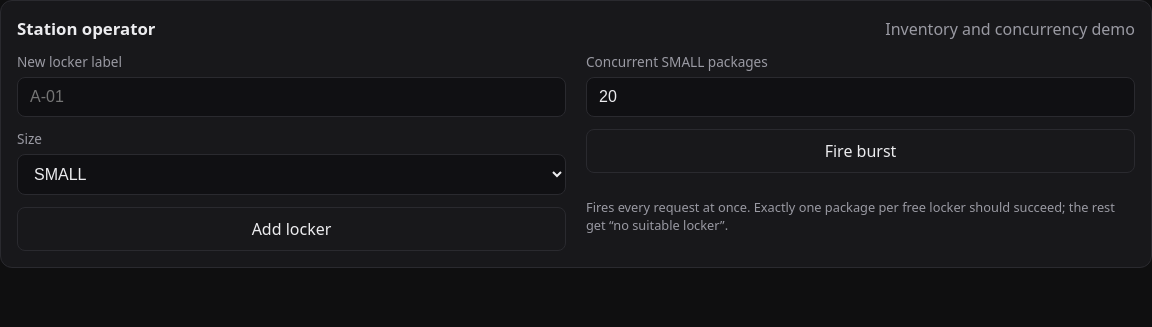
OperatorPanel burst demo › explains itself when there is no customer to store for
What coordinates should you click on to do the following:
click the button "Fire burst"
I would click on:
 (860, 151)
Its box is [586,129,1135,173].
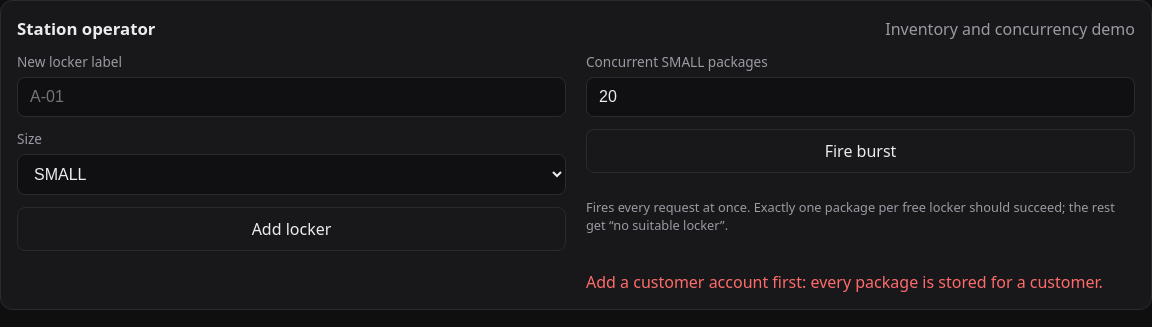
Check: the message shows "Add a customer account first", box [586,271,1103,293]
